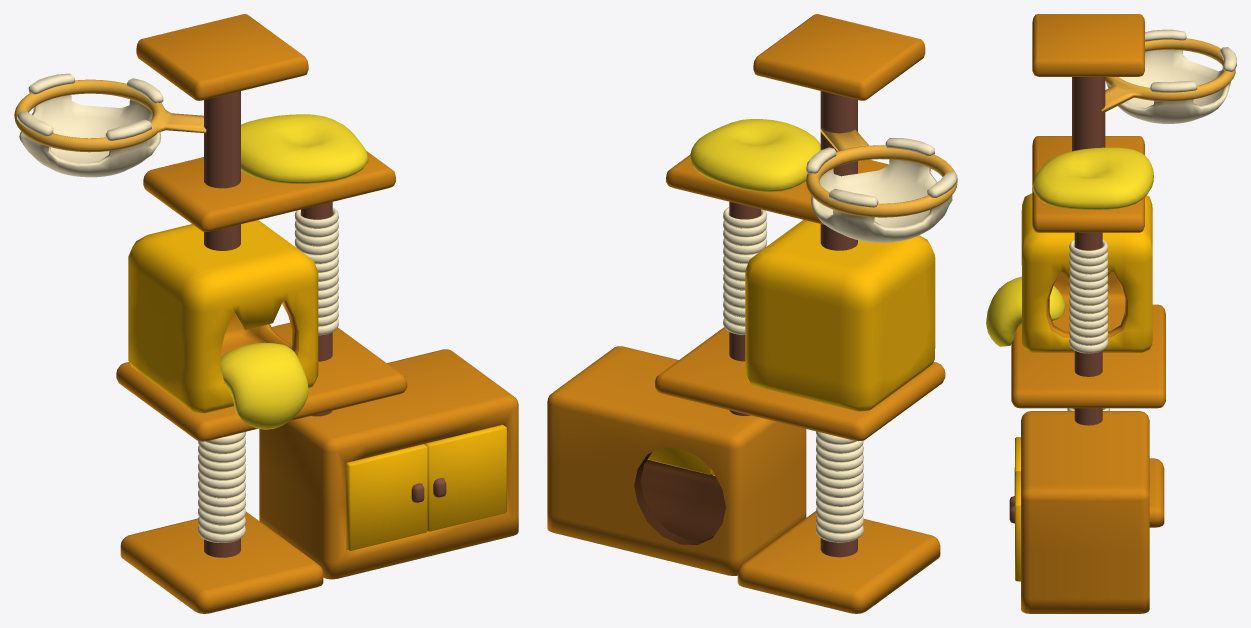
The model's file is cat_tower.fbx.
3 views of the same model, side by side, from view 1: azimuth 30°, elevation 25°; view 2: azimuth 150°, elevation 25°; view 3: azimuth 270°, elevation 25° (orthographic). The views are drawn at different scales.
Visible parts, largest first — view 1: platfrom3, platfrom3.002, platfrom3.004, platfrom3.003, platfrom3.001; view 2: platfrom3, platfrom3.002, platfrom3.003; view 3: platfrom3, platfrom3.002, platfrom3.001, platfrom3.003.
Boxes of the visible parts, x1,y1,x2,y2 form: platfrom3: (14,14,518,613); platfrom3.002: (241,114,368,183); platfrom3.004: (346,444,427,551); platfrom3.003: (424,424,506,531); platfrom3.001: (220,342,308,429); platfrom3: (547,14,957,613); platfrom3.002: (690,119,820,192); platfrom3.003: (647,447,711,474); platfrom3: (1011,14,1236,613); platfrom3.002: (1032,147,1153,209); platfrom3.001: (986,276,1064,346); platfrom3.003: (1009,471,1020,581).
Bounding box in the file's own units: 78.89 × 94.59 × 46.35.
Materials: 1 (1 with a texture image).
